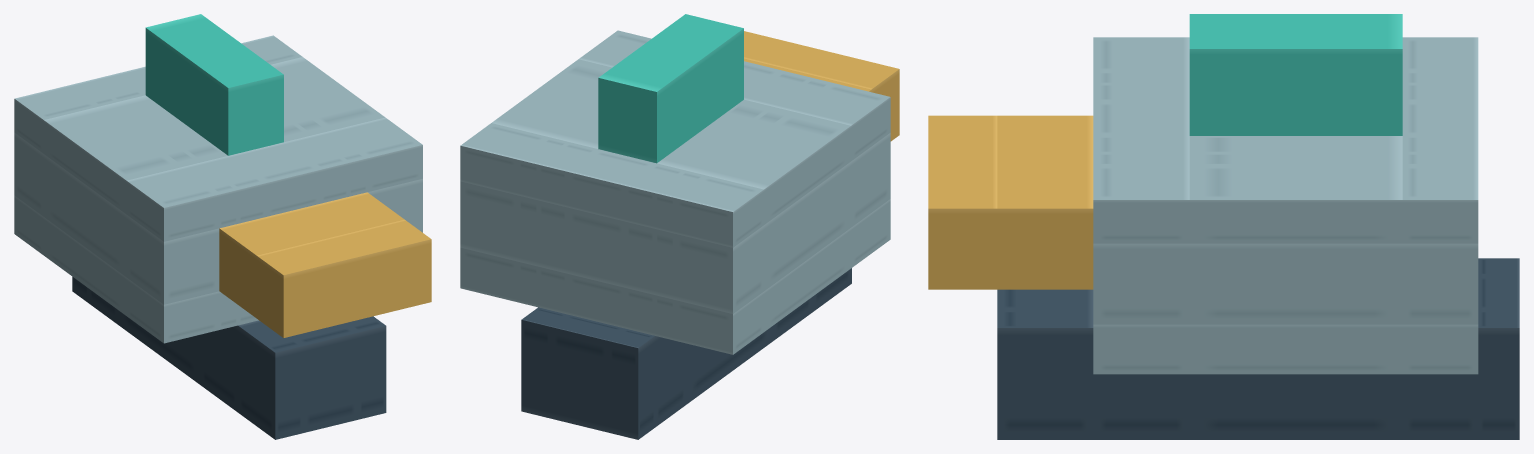
The model's file is sc_pickup_range.obj.
3 renders of one model, left to right at view 1: azimuth 30°, elevation 25°; view 2: azimuth 150°, elevation 25°; view 3: azimuth 270°, elevation 25°, orthographic. The views are drawn at different scales.
Bounding box in the file's own units: 5.6 × 6 × 8.6.
1 material, 1 textured.
